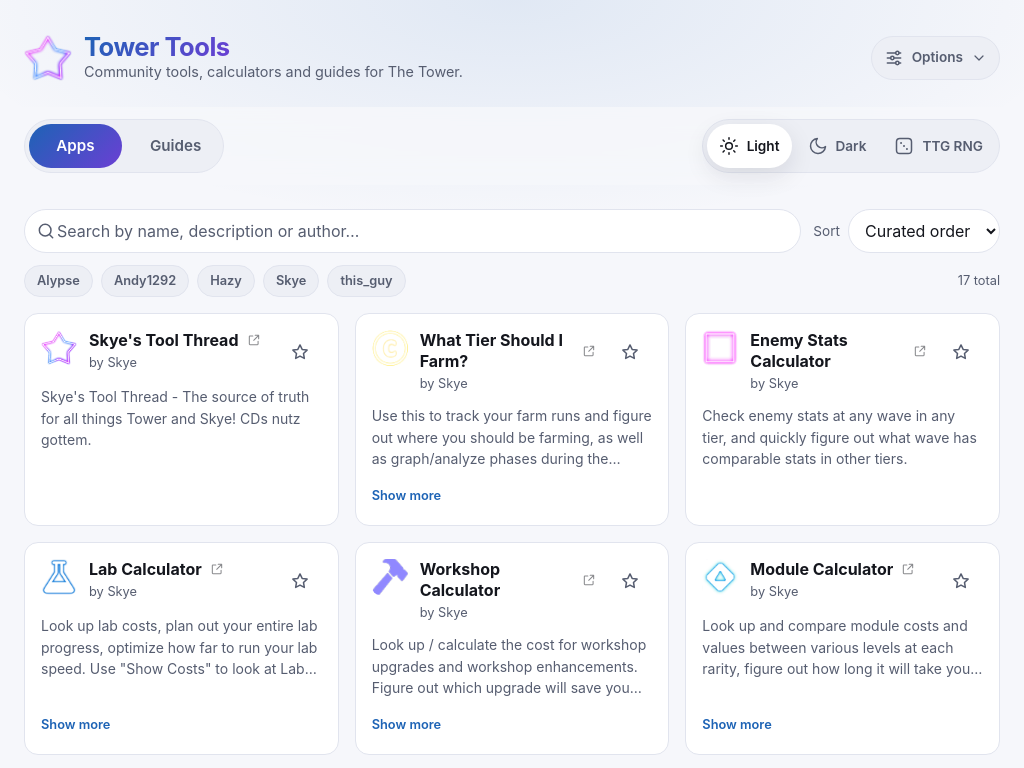
Test: theme toggle › rolls a theme in TTG RNG mode and writes the palette as inline custom properties
Click the button "TTG RNG" at (939, 146), box [882,124,995,168]
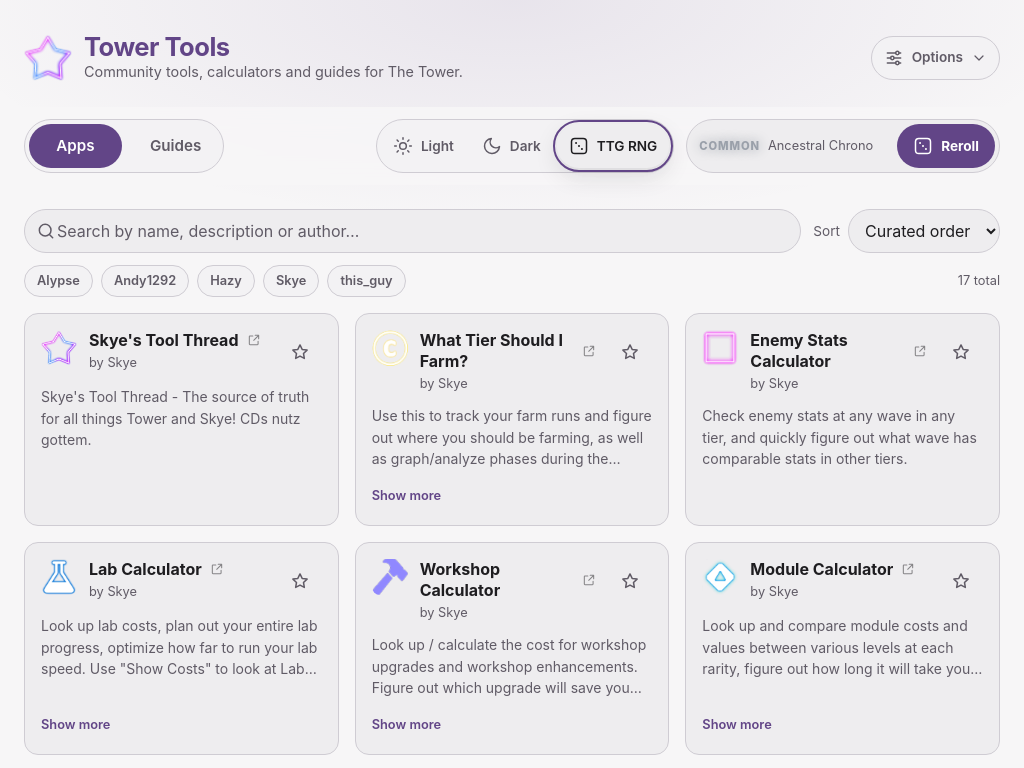
Expected: the button with aria-label "Reroll theme" is shown, [897,124,995,168]
